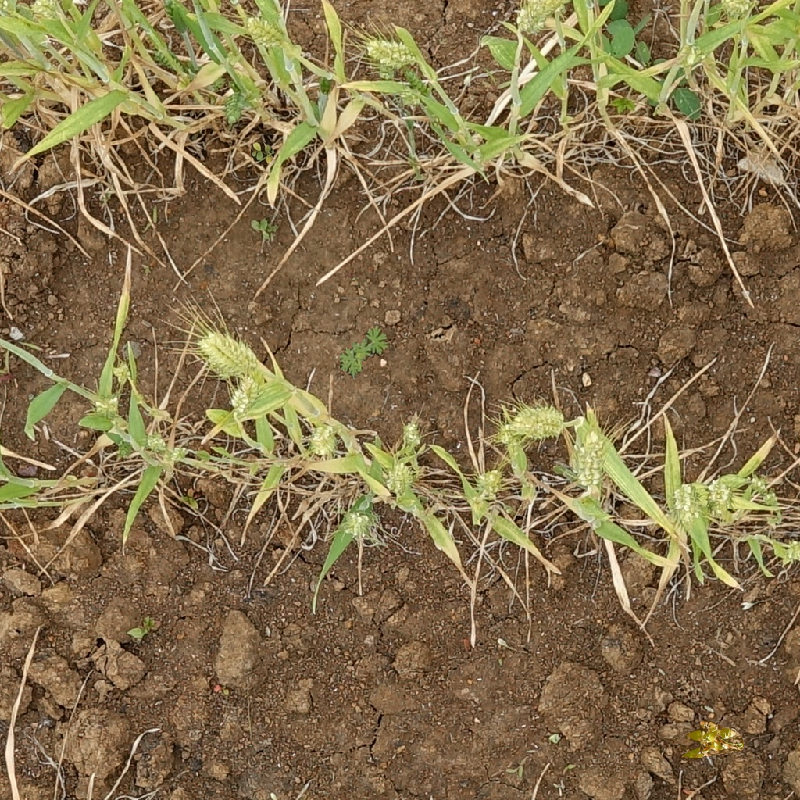spikelet: (197, 329, 260, 377), (506, 401, 567, 441), (574, 426, 608, 494), (363, 35, 418, 69), (514, 1, 568, 35), (226, 373, 262, 421), (666, 479, 699, 524), (243, 13, 283, 49), (305, 419, 340, 458), (342, 506, 379, 542), (220, 85, 250, 125), (473, 466, 505, 501), (383, 459, 415, 494), (705, 478, 734, 516), (88, 390, 122, 420), (399, 414, 425, 450), (675, 39, 703, 70), (779, 532, 800, 566), (718, 1, 755, 20), (396, 85, 425, 109), (29, 1, 61, 20)
weed: (605, 1, 658, 65), (340, 326, 391, 379), (679, 720, 744, 761), (122, 613, 164, 647), (248, 215, 279, 250), (251, 142, 274, 165)
